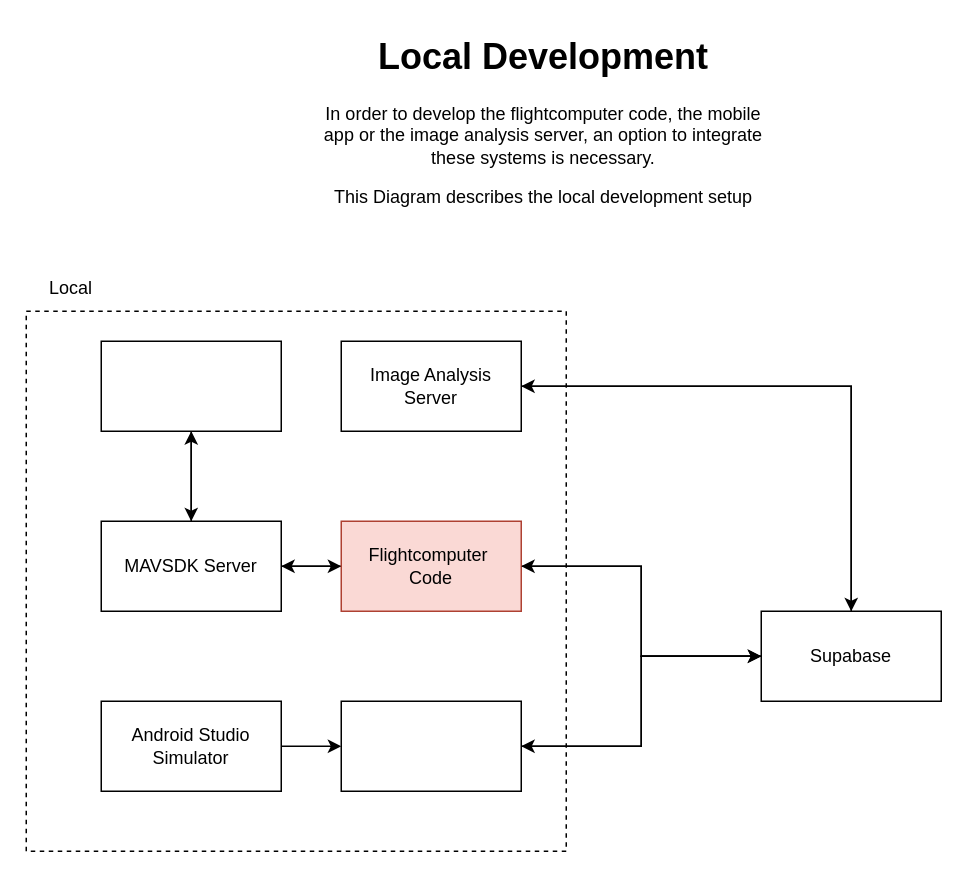
The diagram is 968 pixels wide and 878 high, and some of its shapes have lost their labels. The centre of each missing label's shape, as x and y in pixels:
"Mobile App" goes at pixel 430 745.
"PX4 Gazebo Simulator" goes at pixel 190 385.
